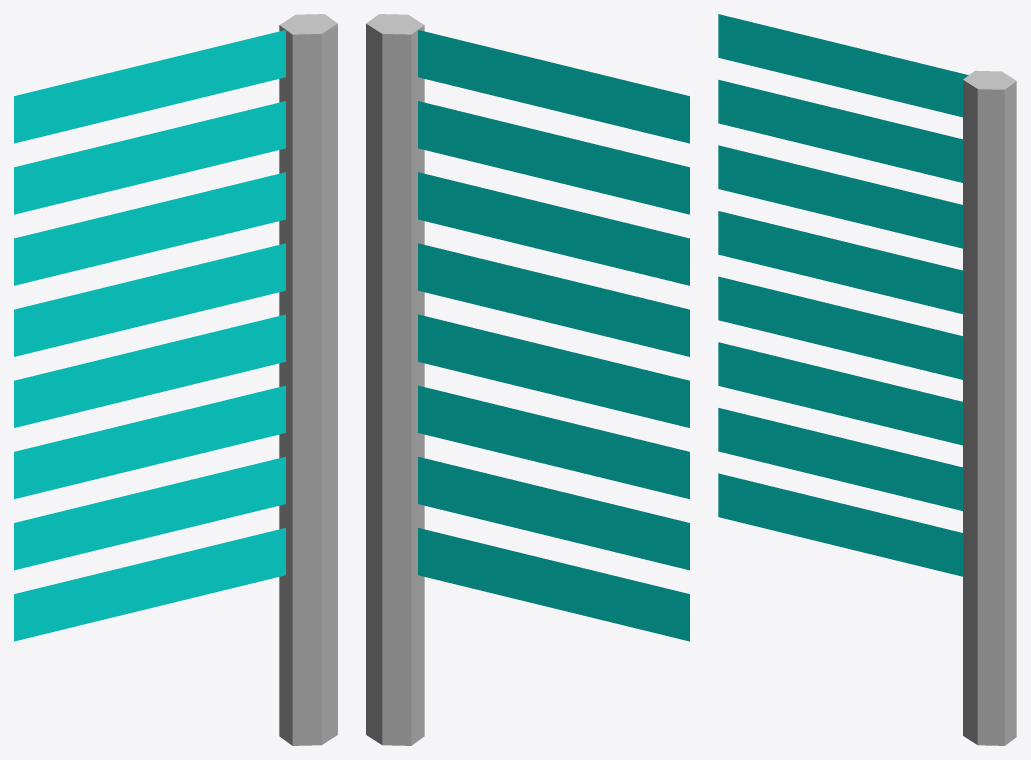
File: right_sign.glb
The picture shows the model from 3 angles, left to right: view 1: azimuth 30°, elevation 25°; view 2: azimuth 150°, elevation 25°; view 3: azimuth 330°, elevation 25°; orthographic projection. The views are drawn at different scales.
Visible parts, largest first — view 1: Cylinder, Plane.001, Plane.005, Plane.006, Plane.003, Plane.007, Plane.004, Plane, Plane.002; view 2: Cylinder, Plane.001, Plane.005, Plane.006, Plane.003, Plane.007, Plane.004, Plane, Plane.002; view 3: Cylinder, Plane, Plane.004, Plane.007, Plane.001, Plane.002, Plane.005, Plane.003, Plane.006.
Part boxes in pixels (x1,y1,x2,y2): Cylinder: (279, 14, 337, 745); Plane.001: (14, 101, 285, 214); Plane.005: (14, 385, 285, 499); Plane.006: (14, 456, 285, 570); Plane.003: (14, 243, 285, 356); Plane.007: (14, 528, 285, 641); Plane.004: (14, 314, 285, 427); Plane: (14, 30, 285, 143); Plane.002: (14, 172, 285, 285); Cylinder: (366, 14, 424, 745); Plane.001: (418, 101, 689, 214); Plane.005: (418, 385, 689, 499); Plane.006: (418, 456, 689, 570); Plane.003: (418, 243, 689, 356); Plane.007: (418, 528, 689, 641); Plane.004: (418, 314, 689, 427); Plane: (418, 30, 689, 143); Plane.002: (418, 172, 689, 285); Cylinder: (963, 70, 1016, 745); Plane: (718, 14, 968, 117); Plane.004: (718, 276, 962, 379); Plane.007: (718, 473, 962, 576); Plane.001: (718, 79, 962, 182); Plane.002: (718, 145, 962, 248); Plane.005: (718, 342, 962, 445); Plane.003: (718, 211, 962, 314); Plane.006: (718, 408, 962, 510).
Bounding box in the file's own units: 1.4 × 3 × 0.2.
